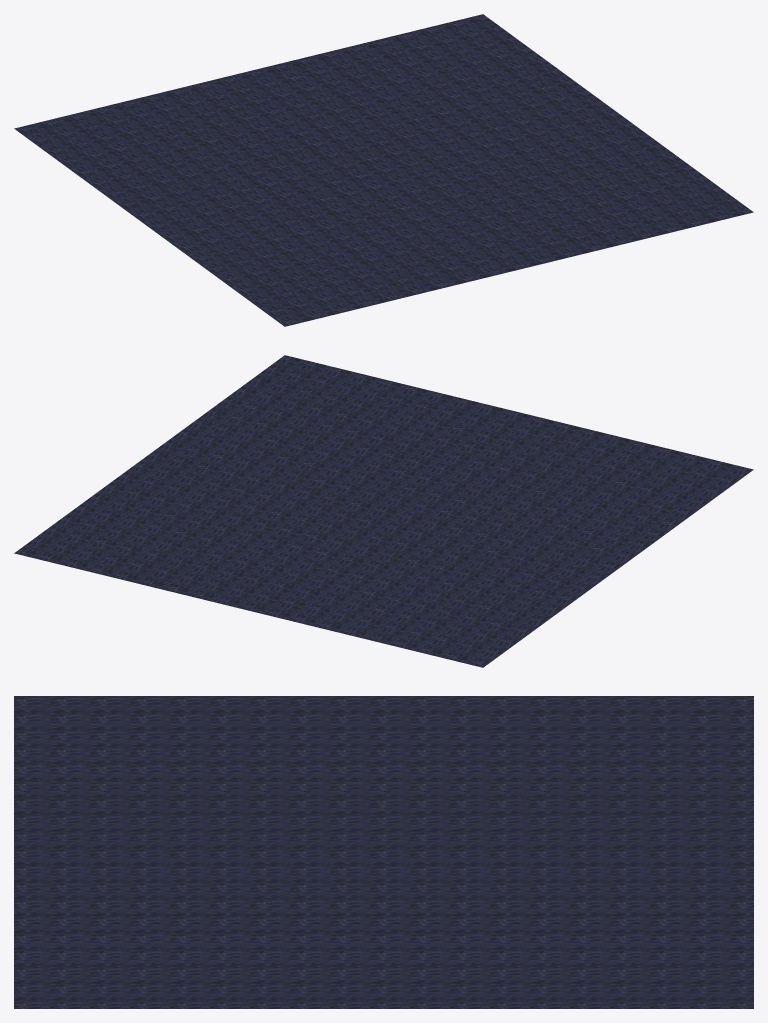
Rendered from secondSetka.glb.
3 renders of one model, top to bottom at view 1: azimuth 30°, elevation 25°; view 2: azimuth 150°, elevation 25°; view 3: azimuth 270°, elevation 25°, orthographic. The views are drawn at different scales.
Parts seen in each view (by area): view 1: models/events/crownfall/survivors/background/survivors_backg; view 2: models/events/crownfall/survivors/background/survivors_backg; view 3: models/events/crownfall/survivors/background/survivors_backg.
Boxes of the visible parts, x1,y1,x2,y2 form: models/events/crownfall/survivors/background/survivors_backg: (14,14,753,326); models/events/crownfall/survivors/background/survivors_backg: (14,355,753,667); models/events/crownfall/survivors/background/survivors_backg: (14,696,753,1008).
Bounding box in the file's own units: 6427 × 437 × 6427.
3 materials, 3 textured.
